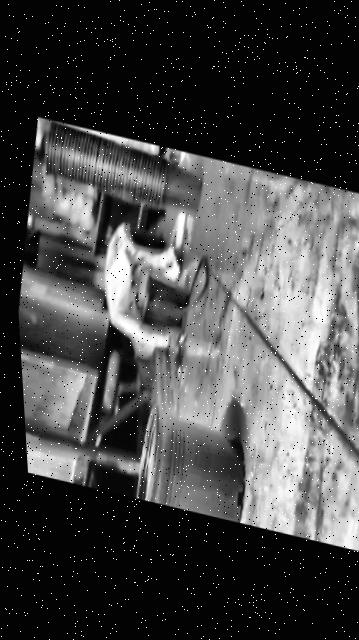pot: (127, 395, 254, 524)
